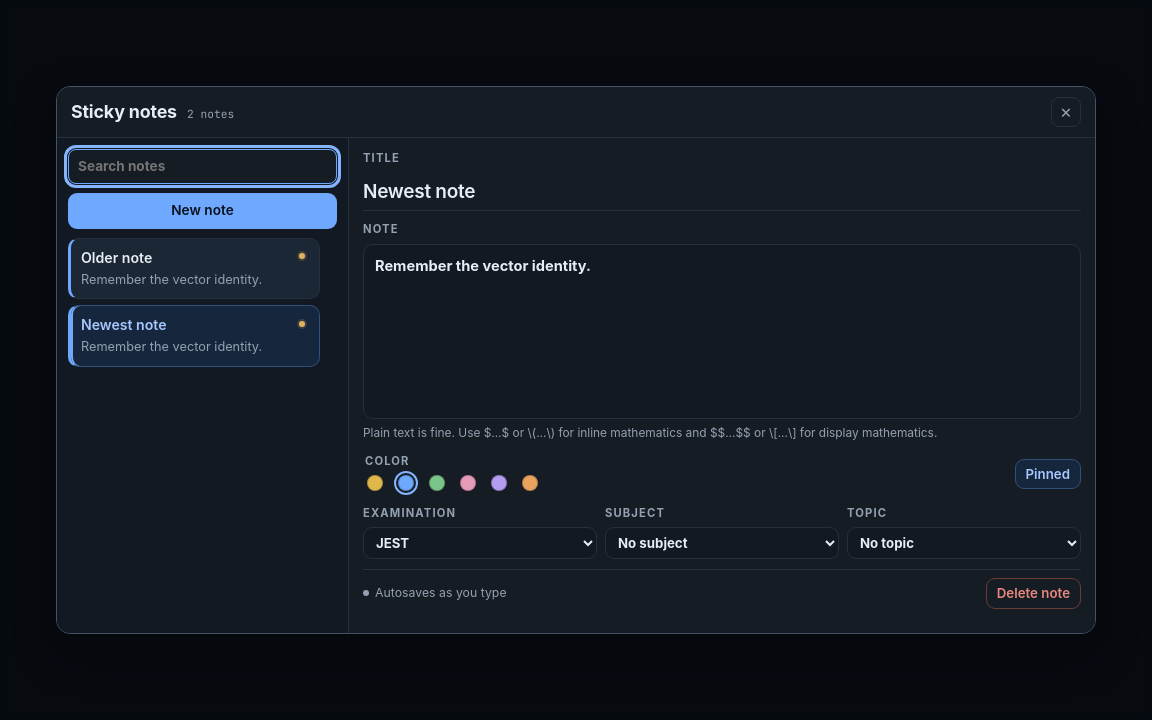
Notes surfaces › switches notes in the inline editor without opening another modal
Expected: the field labelled "Title" holds "Newest note", x1=363 y1=173 x2=1081 y2=211
Click the button with aria-label "Open sticky note Older note (pinned)".
click(194, 268)  # box x1=68 y1=238 x2=320 y2=299
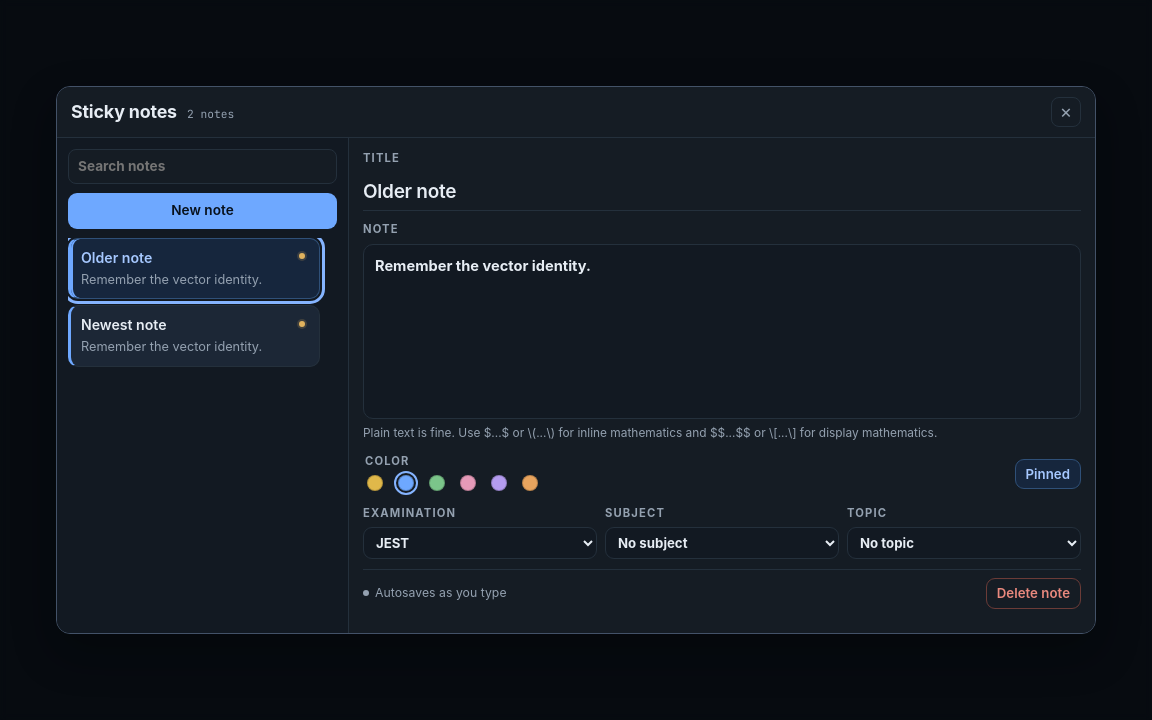
Result: the field labelled "Title" holds "Older note" at x1=363 y1=173 x2=1081 y2=211
